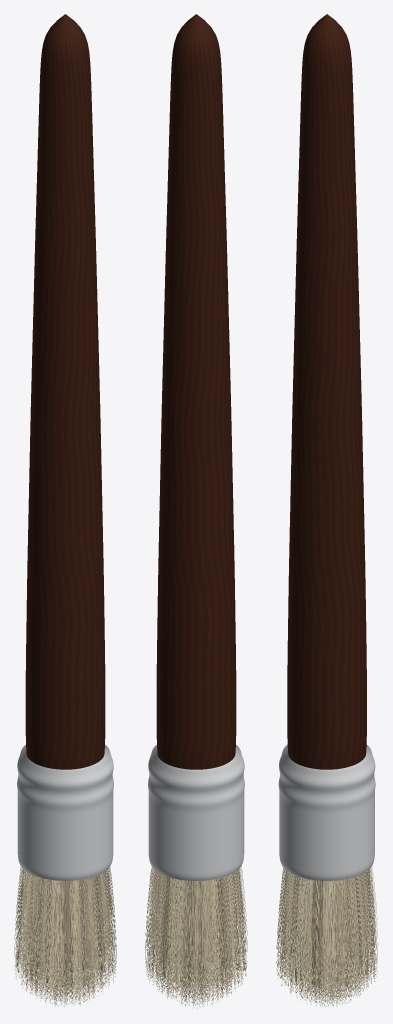
The model's file is pennello.glb.
3 renders of one model, left to right at view 1: azimuth 30°, elevation 25°; view 2: azimuth 210°, elevation 25°; view 3: azimuth 270°, elevation 25°, orthographic.
Parts seen in each view (by area): view 1: Handle_dark_wood, Ferrule_nickel, Bristles_cream_4, Bristles_cream_5, Bristles_cream_3, Bristles_cream_2, Bristles_cream_1; view 2: Handle_dark_wood, Ferrule_nickel, Bristles_cream_2, Bristles_cream_4, Bristles_cream_5, Bristles_cream_3, Bristles_cream_1; view 3: Handle_dark_wood, Ferrule_nickel, Bristles_cream_3, Bristles_cream_4, Bristles_cream_2, Bristles_cream_1, Bristles_cream_5.
Part boxes in pixels (x1=…): Handle_dark_wood: x1=25, y1=14, x2=105, y2=769; Ferrule_nickel: x1=17, y1=744, x2=113, y2=880; Bristles_cream_4: x1=14, y1=867, x2=113, y2=1006; Bristles_cream_5: x1=17, y1=868, x2=114, y2=1004; Bristles_cream_3: x1=18, y1=868, x2=116, y2=1005; Bristles_cream_2: x1=15, y1=866, x2=116, y2=1005; Bristles_cream_1: x1=16, y1=868, x2=111, y2=1004; Handle_dark_wood: x1=156, y1=14, x2=236, y2=769; Ferrule_nickel: x1=148, y1=745, x2=244, y2=880; Bristles_cream_2: x1=145, y1=867, x2=246, y2=1006; Bristles_cream_4: x1=148, y1=866, x2=247, y2=1007; Bristles_cream_5: x1=147, y1=868, x2=244, y2=1006; Bristles_cream_3: x1=145, y1=867, x2=242, y2=1004; Bristles_cream_1: x1=150, y1=869, x2=245, y2=1008; Handle_dark_wood: x1=287, y1=14, x2=366, y2=769; Ferrule_nickel: x1=278, y1=744, x2=375, y2=880; Bristles_cream_3: x1=277, y1=868, x2=376, y2=1005; Bristles_cream_4: x1=281, y1=866, x2=378, y2=1004; Bristles_cream_2: x1=278, y1=869, x2=374, y2=1007; Bristles_cream_1: x1=276, y1=868, x2=376, y2=1006; Bristles_cream_5: x1=278, y1=869, x2=376, y2=1006.
Bounding box in the file's own units: 0.0103 × 0.11 × 0.0103.
Materials: 7 (6 with a texture image).
